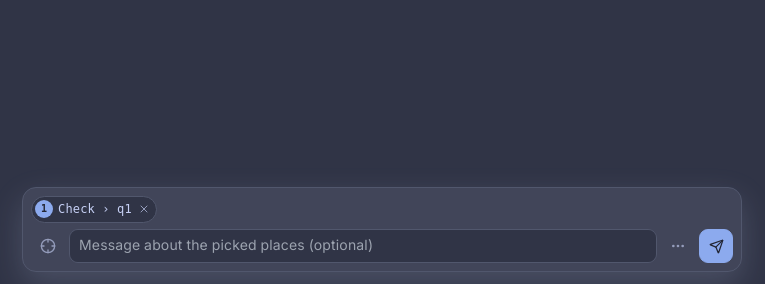
Pick message bar › sends picks, comment and message to the assistant, with Answer only from the ⋯ menu, then clears
The width and height of the screenshot is (765, 284).
Click the button with test id "pick-row" at (84, 209), box [32,196,136,222]
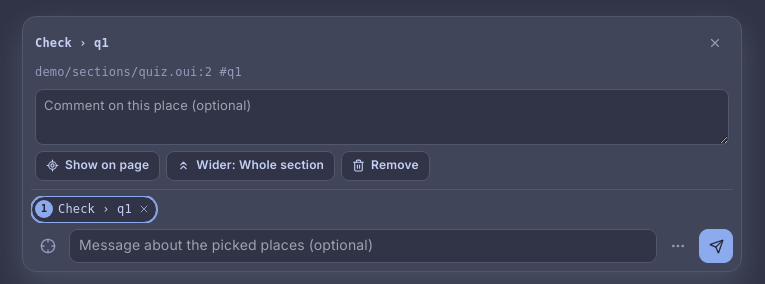
Type "Too easy?" into the text box with test id "pick-entry-note" at (382, 117), box [35,89,729,145]
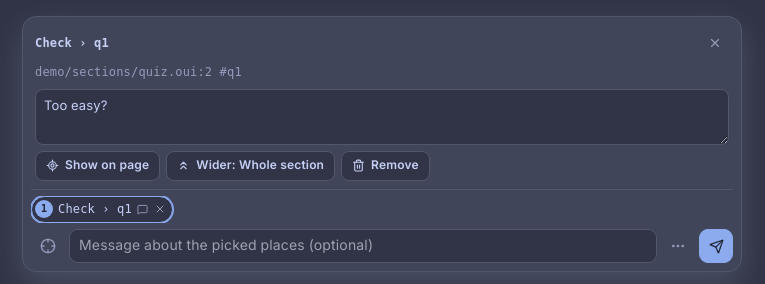
Click the button with test id "pick-more" at (678, 246), box [661,229,695,263]
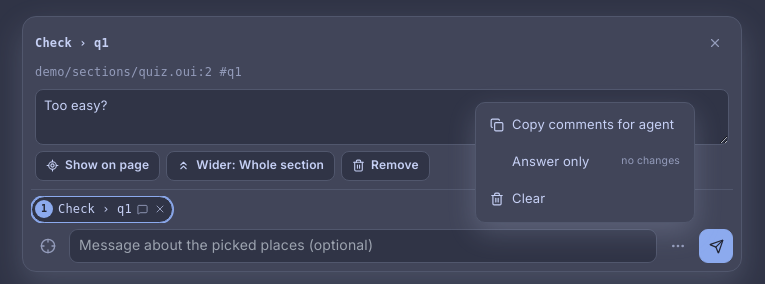
Click the menu item with test id "pick-answer-only" at (585, 162), box [480,144,690,181]
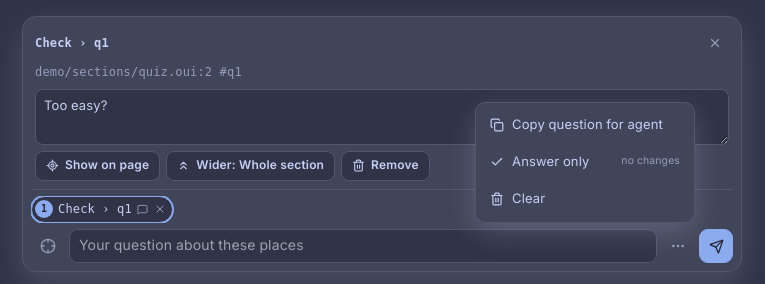
Type "Is it fair?" into the text box with test id "pick-composer" at (363, 246), box [69,229,657,263]
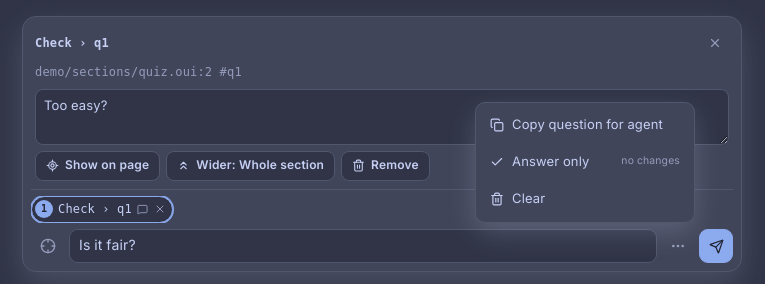
Click the button with test id "pick-send" at (716, 246), box [699,229,733,263]
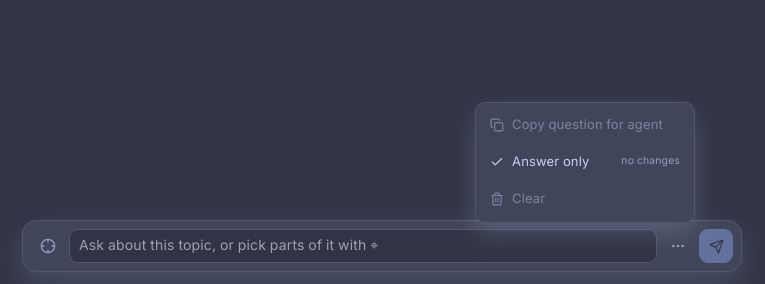
Now the list item with test id "pick-entry" is gone
Now the text box with test id "pick-composer" is empty, box [69,229,657,263]
